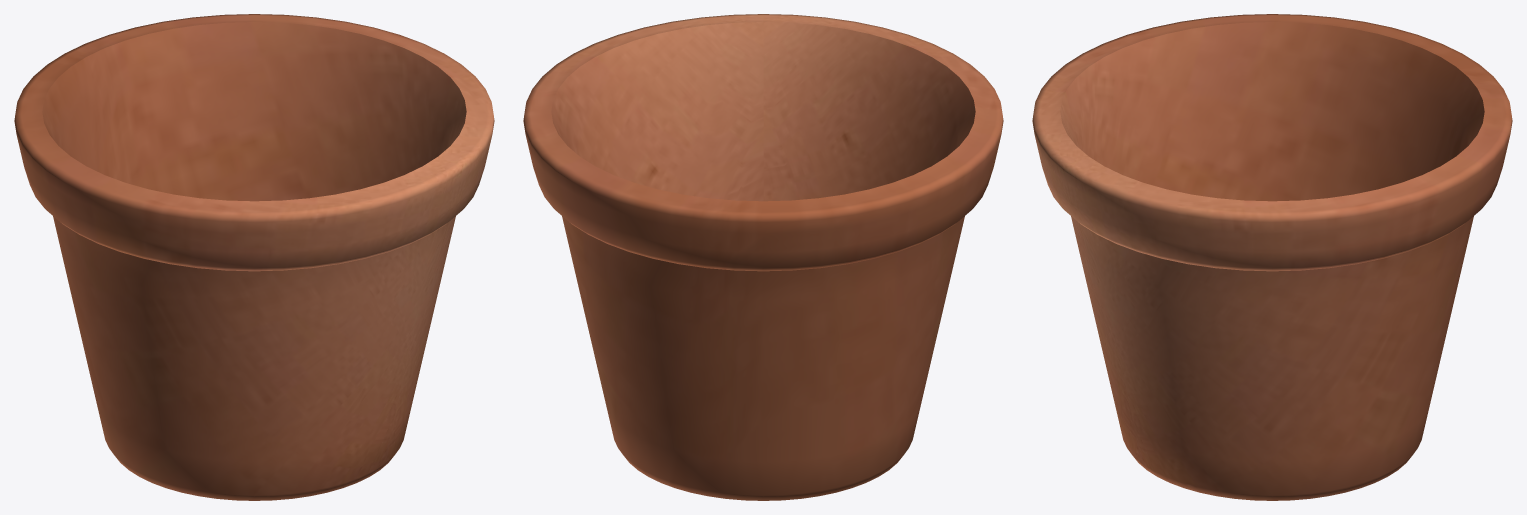
Rendered from pot.fbx.
The picture shows the model from 3 angles, left to right: view 1: azimuth 30°, elevation 25°; view 2: azimuth 150°, elevation 25°; view 3: azimuth 270°, elevation 25°; orthographic projection.
Parts seen in each view (by area): view 1: Pot__exterior_, Pot__interior_; view 2: Pot__exterior_, Pot__interior_; view 3: Pot__exterior_, Pot__interior_.
Part boxes in pixels (<box>): Pot__exterior_: <box>14,14,494,500</box>; Pot__interior_: <box>42,22,466,201</box>; Pot__exterior_: <box>523,14,1003,500</box>; Pot__interior_: <box>551,22,975,201</box>; Pot__exterior_: <box>1032,14,1512,500</box>; Pot__interior_: <box>1060,22,1484,201</box>.
Bounding box in the file's own units: 1.1 × 0.8394 × 1.1.
